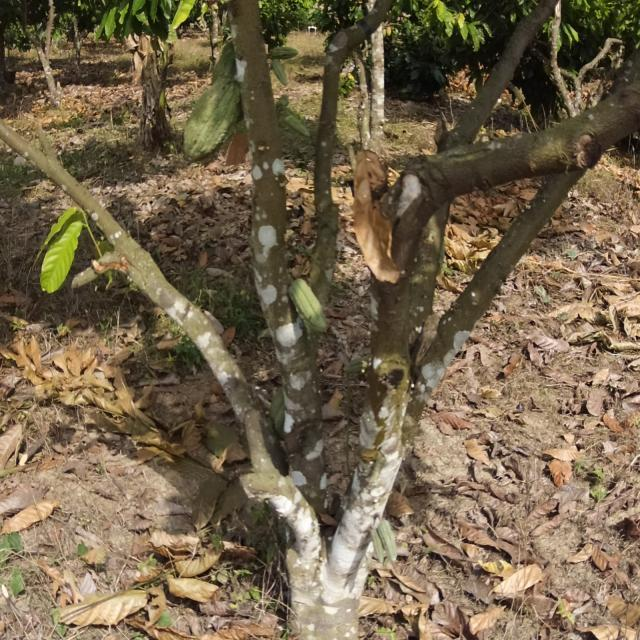Immature: (289, 276, 339, 341), (267, 34, 304, 84), (279, 99, 313, 147)
Mature_Unripe: (181, 46, 257, 190)
